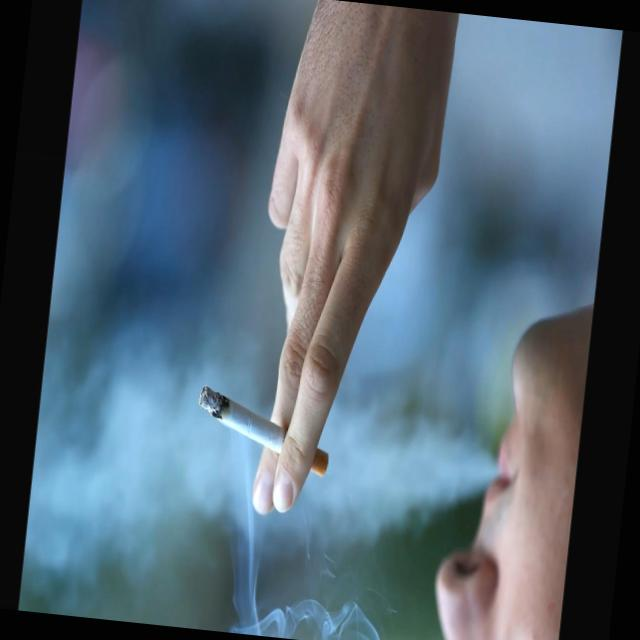cigarette: (187, 324, 340, 522)
